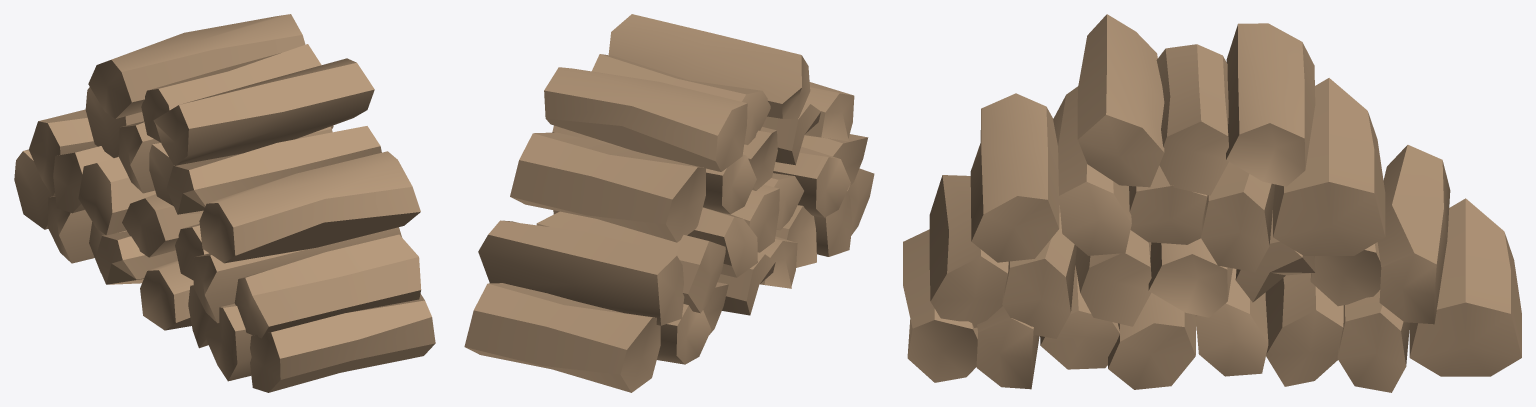
Rendered from kb3d_firewood.glb.
3 renders of one model, left to right at view 1: azimuth 30°, elevation 25°; view 2: azimuth 150°, elevation 25°; view 3: azimuth 270°, elevation 25°, orthographic. The views are drawn at different scales.
Parts seen in each view (by area): view 1: EXPORT_kb3d_firewood; view 2: EXPORT_kb3d_firewood; view 3: EXPORT_kb3d_firewood.
Part boxes in pixels (x1,y1,x2,y2): EXPORT_kb3d_firewood: (14, 14, 435, 392); EXPORT_kb3d_firewood: (464, 14, 874, 392); EXPORT_kb3d_firewood: (903, 14, 1521, 392).
Bounding box in the file's own units: 0.7951 × 0.8717 × 1.76.
